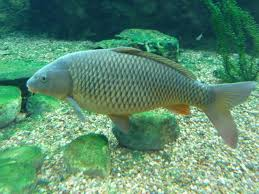carp: (25, 45, 258, 150)
